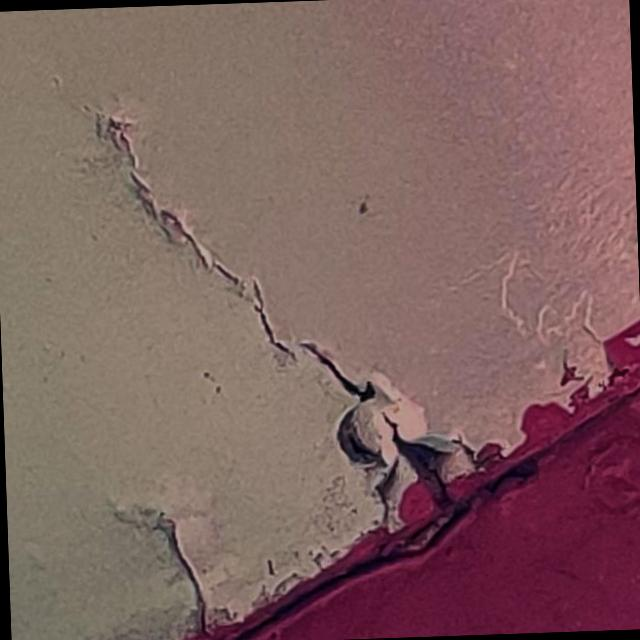crack: (66, 71, 504, 559), (135, 487, 245, 640)
